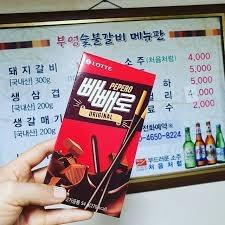snack: (43, 51, 157, 218)
